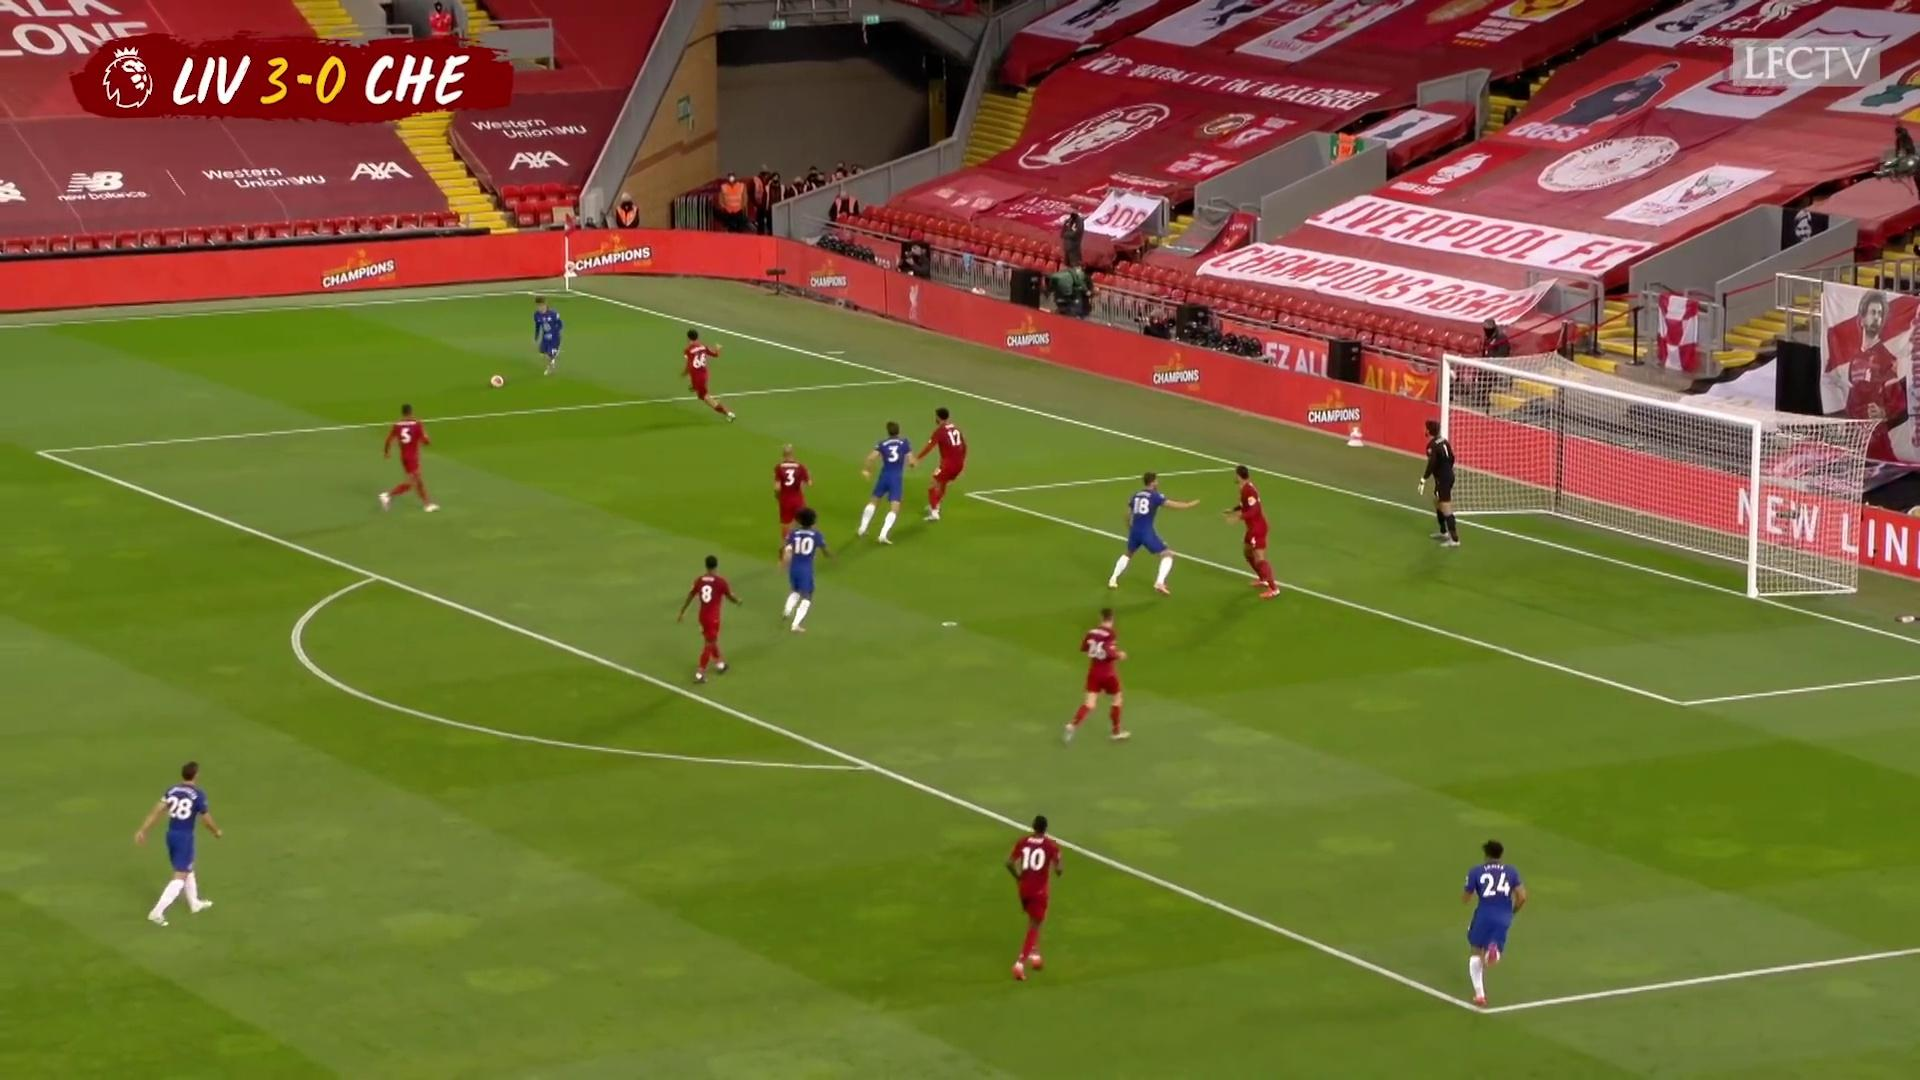ball: (491, 375, 506, 388)
